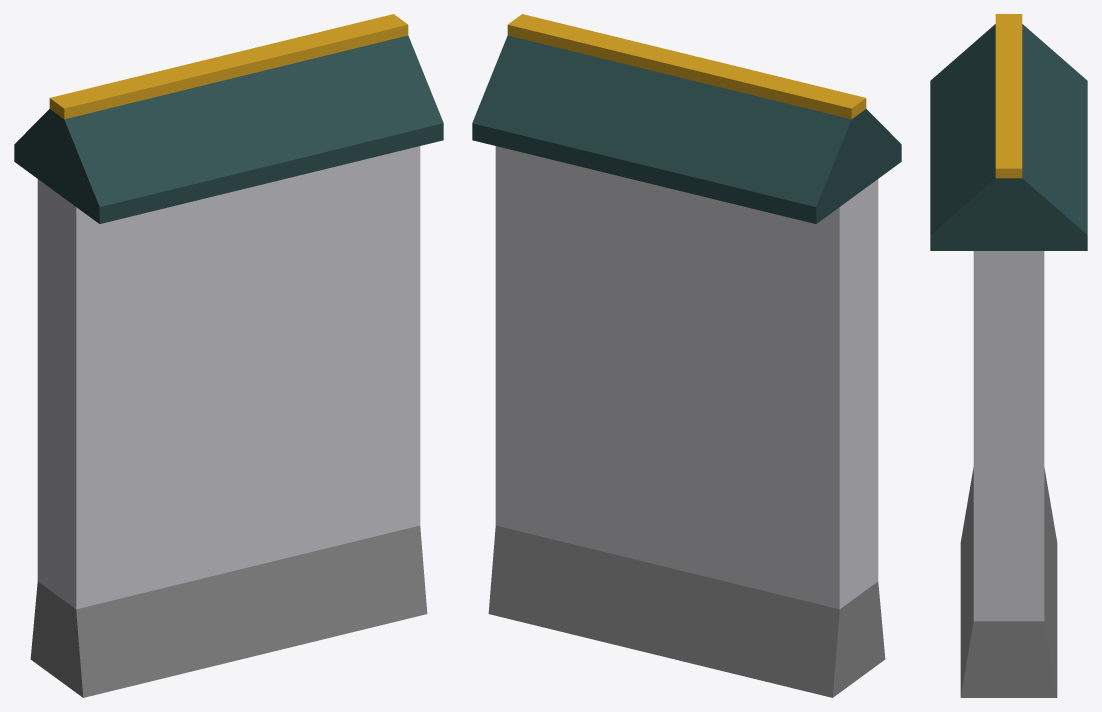
File: Asian_Prop_Building_Fence_Wall_Simple_Small_03.FBX
3 renders of one model, left to right at view 1: azimuth 30°, elevation 25°; view 2: azimuth 150°, elevation 25°; view 3: azimuth 270°, elevation 25°, orthographic. The views are drawn at different scales.
Visible parts, largest first — view 1: Asian_Prop_Building_Fence_Wall_Simple_Small_03; view 2: Asian_Prop_Building_Fence_Wall_Simple_Small_03; view 3: Asian_Prop_Building_Fence_Wall_Simple_Small_03.
Part boxes in pixels (<box>): Asian_Prop_Building_Fence_Wall_Simple_Small_03: <box>14,14,443,697</box>; Asian_Prop_Building_Fence_Wall_Simple_Small_03: <box>472,14,901,697</box>; Asian_Prop_Building_Fence_Wall_Simple_Small_03: <box>930,14,1087,697</box>.
Bounding box in the file's own units: 2584 × 4128 × 1112.
